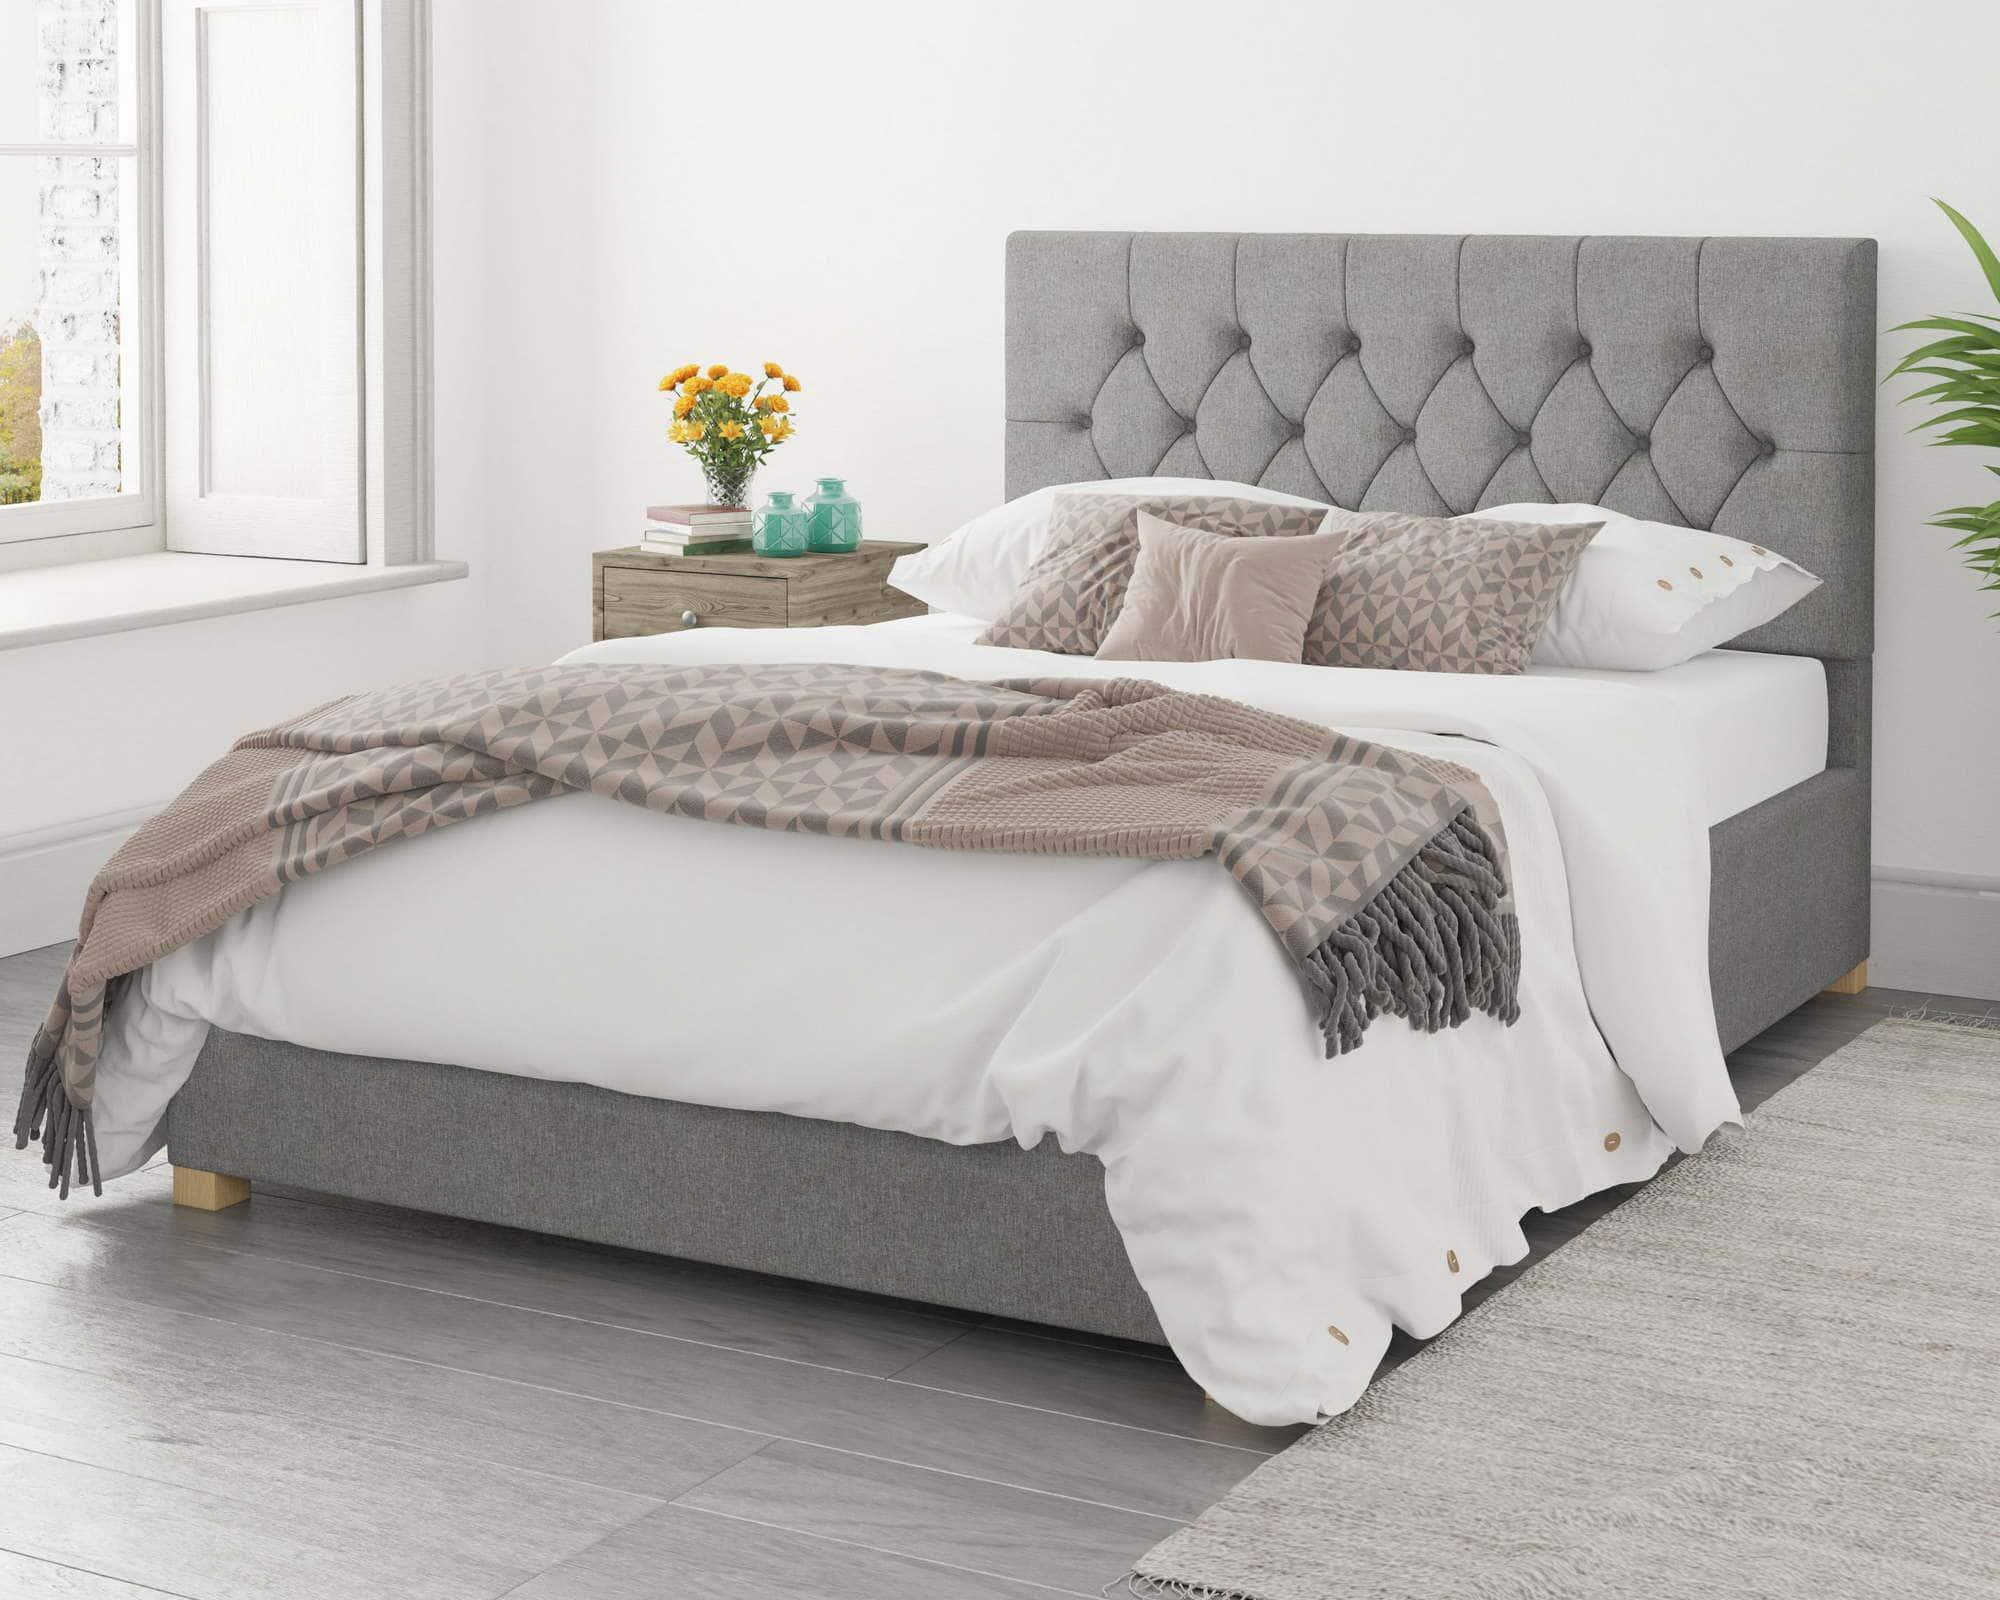bed: (403, 300, 1670, 1220)
